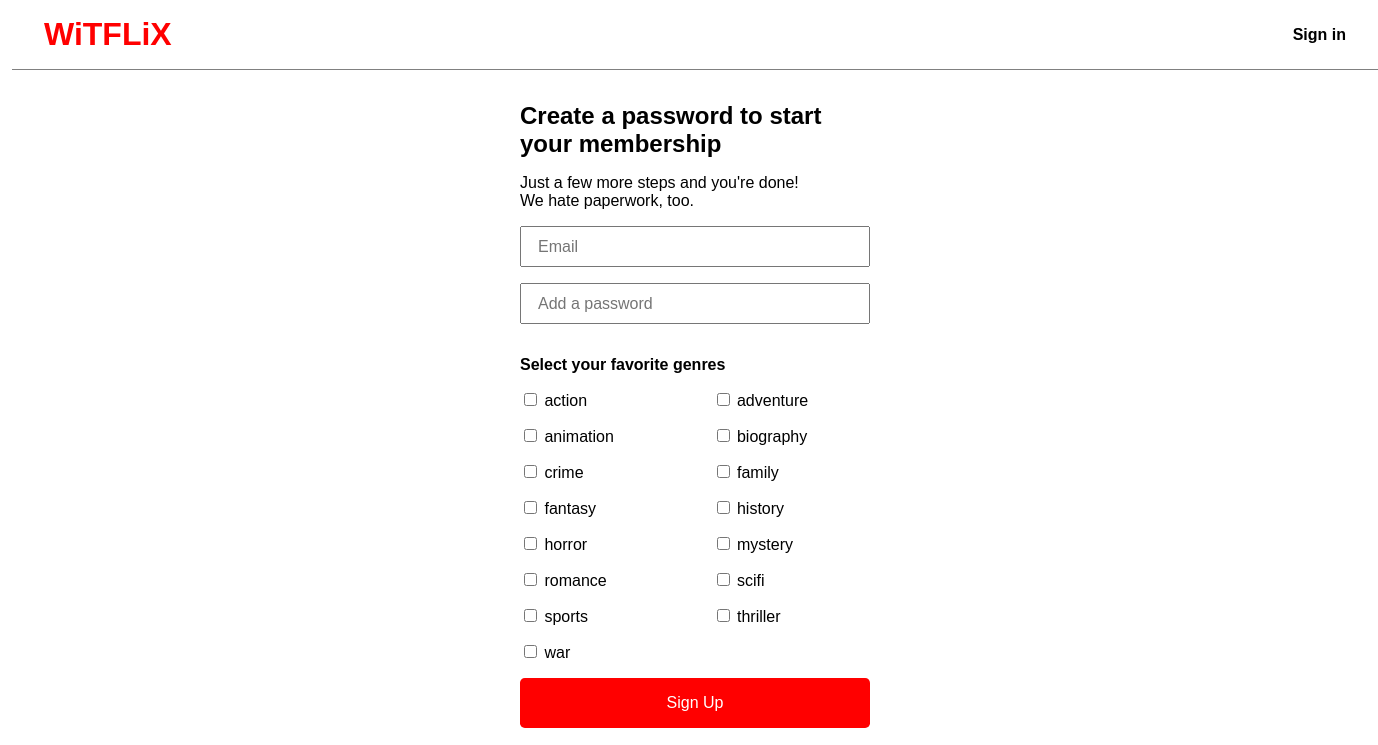
it: Sign Up Form › Fail Testleri › [5] gets error on invalid email
Type "emre" into the field with test id "signup-form-email" at coordinates (695, 247), box [520, 226, 870, 267]
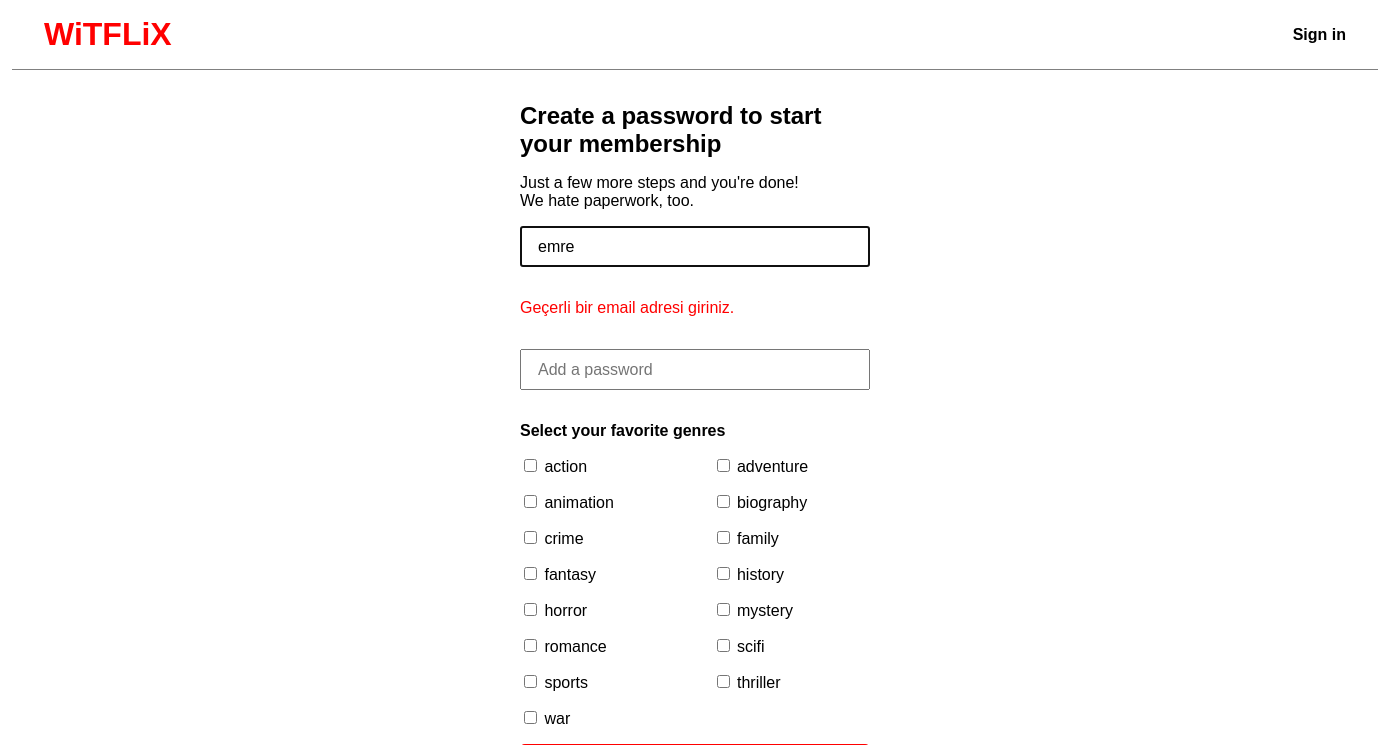
Now the number of elements with test id "error" is 1, box [520, 299, 734, 316]
